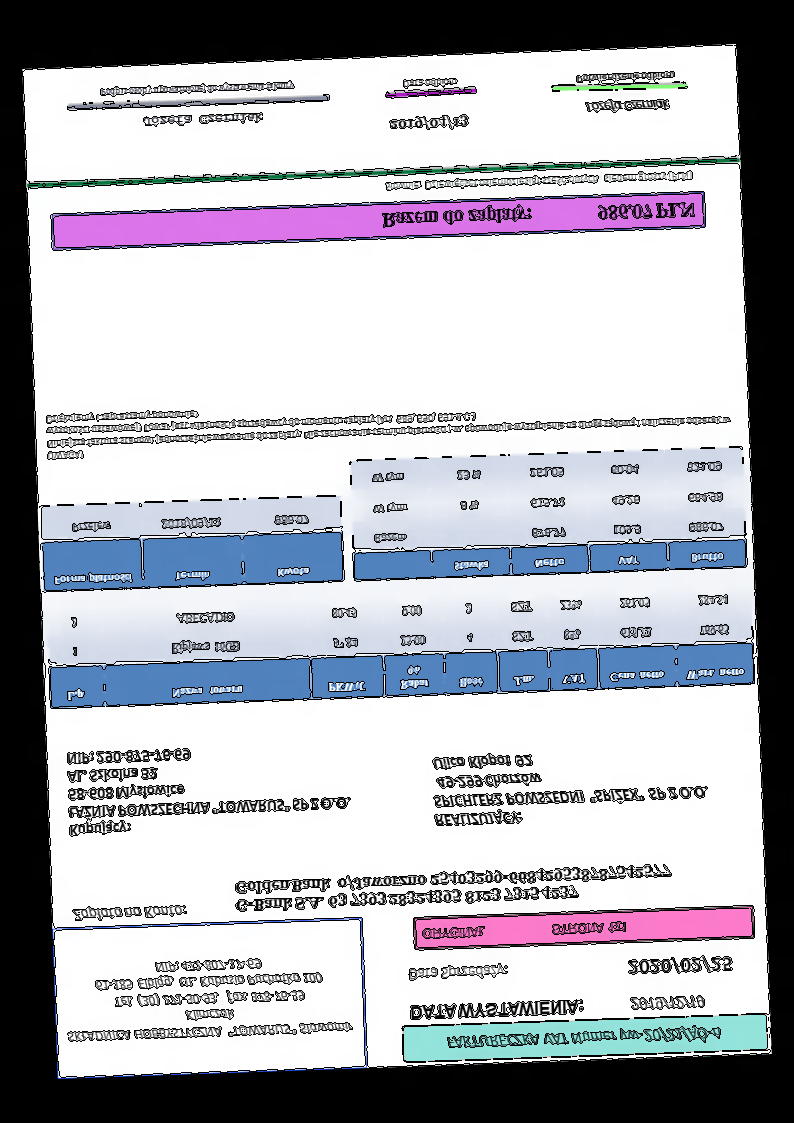Table: (45, 578, 754, 712), (349, 444, 749, 582), (39, 493, 344, 593)
TextBox: (43, 387, 733, 464), (64, 741, 353, 841), (60, 952, 357, 1047), (232, 859, 675, 917), (430, 744, 711, 831), (379, 198, 696, 233), (442, 1021, 726, 1056), (383, 167, 696, 196), (419, 918, 632, 945), (407, 996, 587, 1024), (98, 79, 296, 100), (625, 954, 735, 980), (407, 961, 510, 986), (71, 903, 187, 925), (140, 111, 265, 130), (626, 991, 709, 1016), (581, 96, 672, 118), (573, 68, 678, 87), (386, 111, 469, 135), (399, 76, 460, 92)
